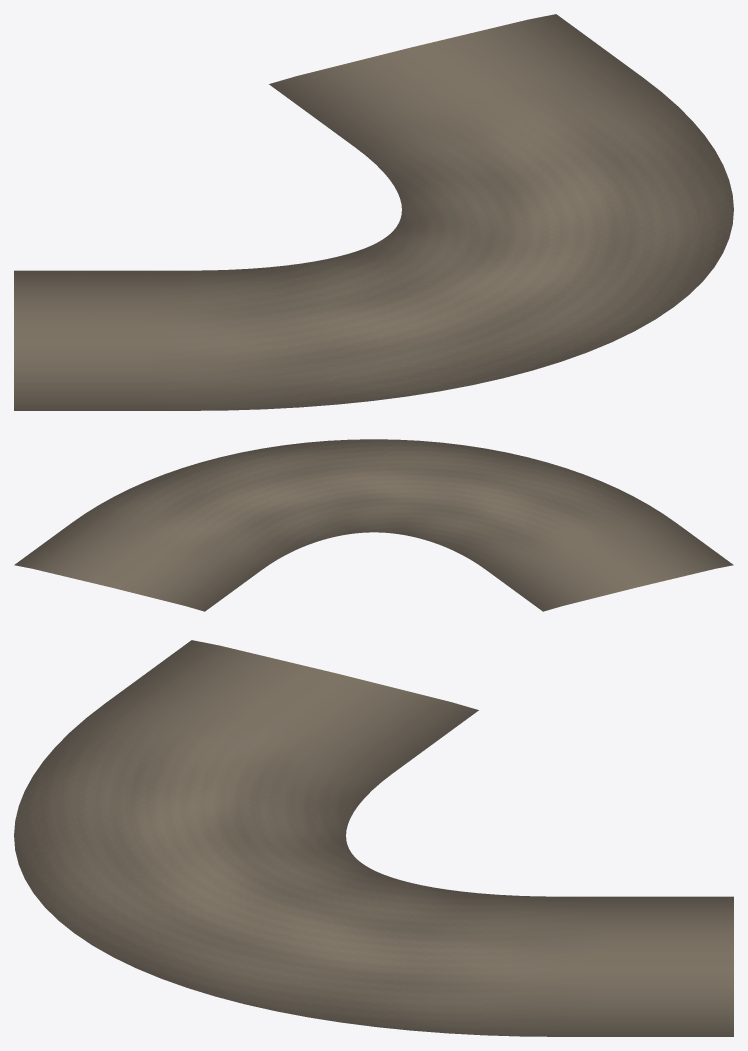
The model's file is hex_path_turn_60.glb.
3 renders of one model, top to bottom at view 1: azimuth 30°, elevation 25°; view 2: azimuth 150°, elevation 25°; view 3: azimuth 270°, elevation 25°, orthographic. The views are drawn at different scales.
Parts seen in each view (by area): view 1: Independent painted path ribbon; view 2: Independent painted path ribbon; view 3: Independent painted path ribbon.
Part boxes in pixels (box(x1,y1,x2,y2)): Independent painted path ribbon: box(14, 14, 733, 410); Independent painted path ribbon: box(14, 439, 733, 611); Independent painted path ribbon: box(14, 640, 733, 1036).
Bounding box in the file's own units: 2.6 × 0.006 × 1.99.
Materials: 1 (1 with a texture image).
